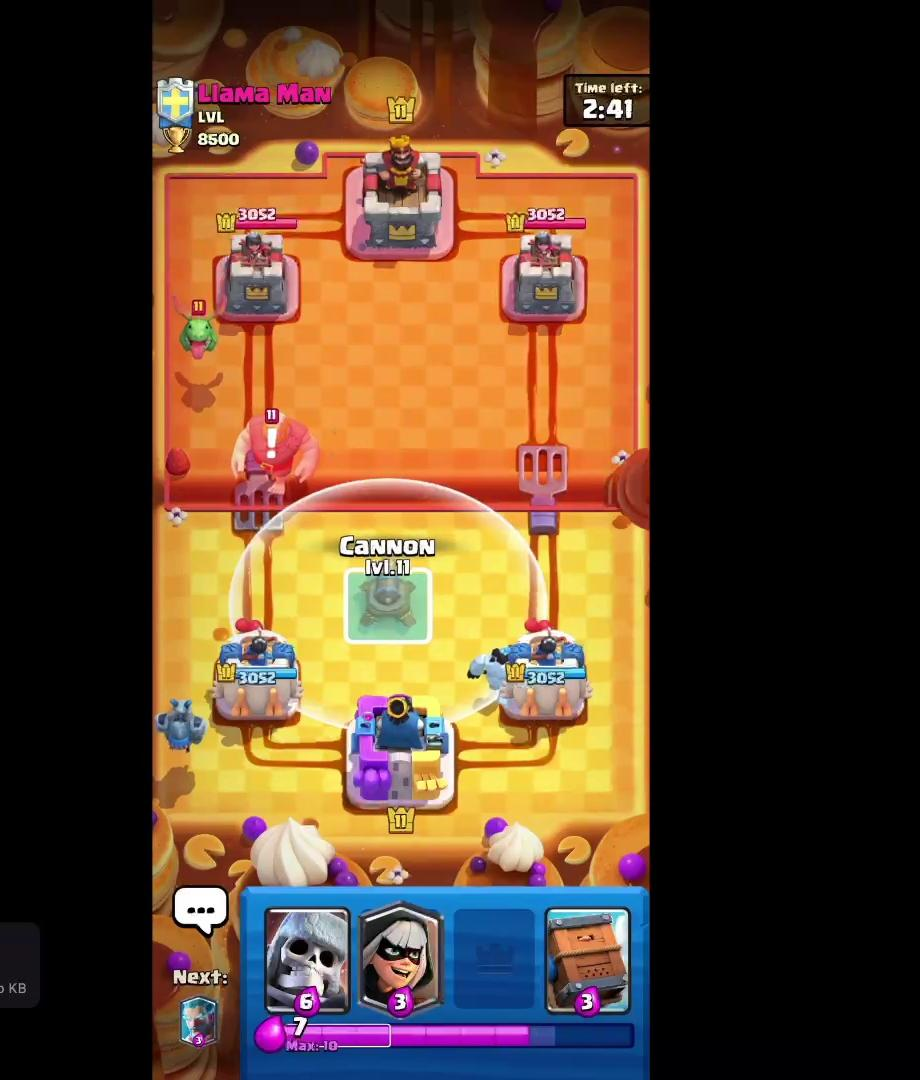Baby Dragon: (170, 291, 237, 371)
